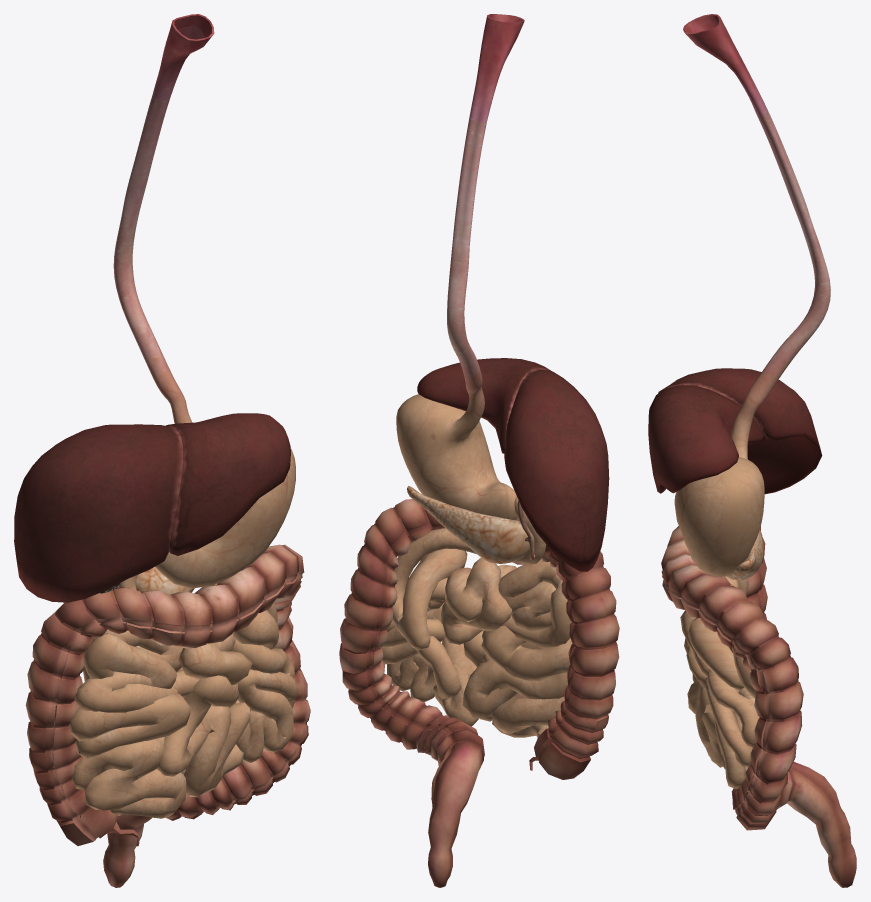
The model's file is digestive_system.glb.
3 renders of one model, left to right at view 1: azimuth 30°, elevation 25°; view 2: azimuth 150°, elevation 25°; view 3: azimuth 270°, elevation 25°, orthographic. The views are drawn at different scales.
Parts seen in each view (by area): view 1: DigestiveSystem001_Digestive_System_0; view 2: DigestiveSystem001_Digestive_System_0; view 3: DigestiveSystem001_Digestive_System_0.
Part boxes in pixels (box(x1,y1,x2,y2)): DigestiveSystem001_Digestive_System_0: box(14, 14, 310, 887); DigestiveSystem001_Digestive_System_0: box(339, 14, 619, 887); DigestiveSystem001_Digestive_System_0: box(648, 14, 856, 887).
Size of the model in its own units: 22.71 by 67.72 by 14.76.
Materials: 1 (1 with a texture image).
